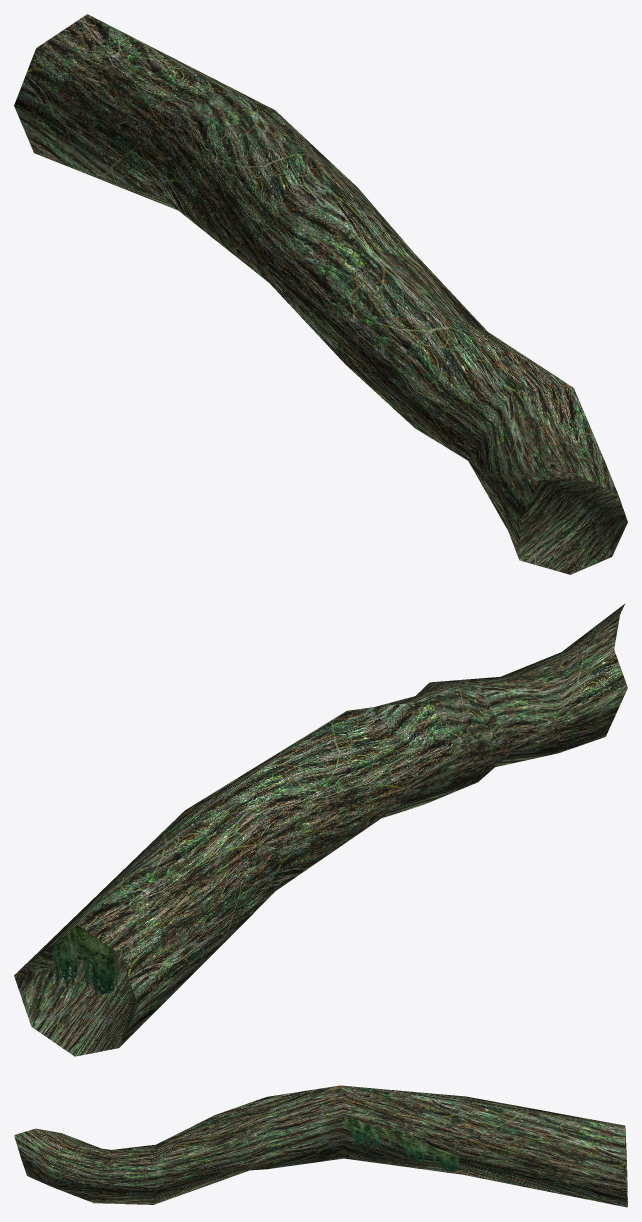
File: decd_dath_overgrownbranch_a2_l0.fbx
3 views of the same model, one above another, from view 1: azimuth 30°, elevation 25°; view 2: azimuth 150°, elevation 25°; view 3: azimuth 270°, elevation 25° (orthographic). The views are drawn at different scales.
Visible parts, largest first — view 1: mesh_node; view 2: mesh_node; view 3: mesh_node.
Boxes of the visible parts, bbox=[...] form: mesh_node: bbox=[14, 14, 627, 574]; mesh_node: bbox=[14, 603, 627, 1056]; mesh_node: bbox=[14, 1085, 627, 1207].
Bounding box in the file's own units: 1.52 × 1.79 × 8.86.
2 materials, 2 textured.
